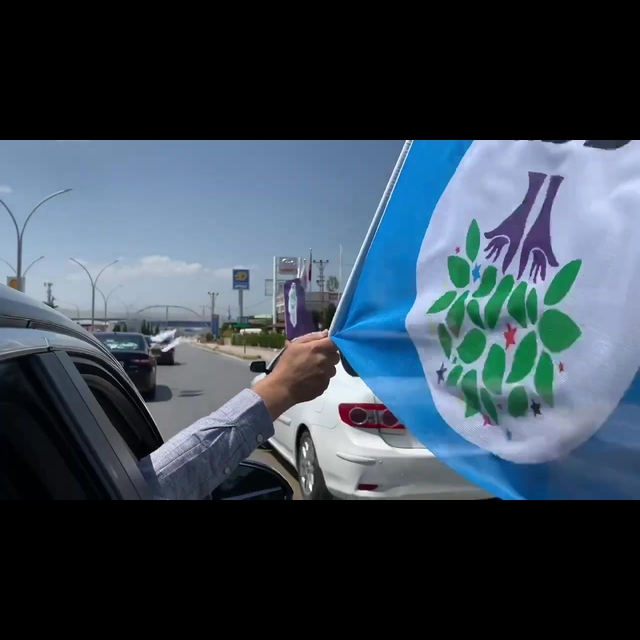HDP: (415, 165, 598, 446)
